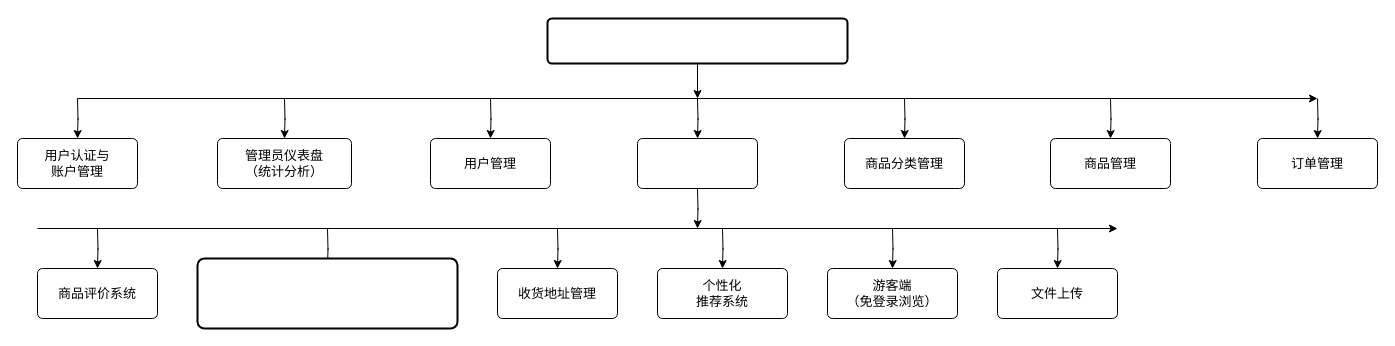
Image size: 1395x346. Some labels were removed from this diagram. The box of each missing label's shape, as (x1, y1, x2, y2) in pixels:
即时通讯 （WebSocket）: (196, 257, 458, 329)
校园二手交易平台: (546, 17, 848, 64)
管理员管理: (636, 138, 758, 188)
